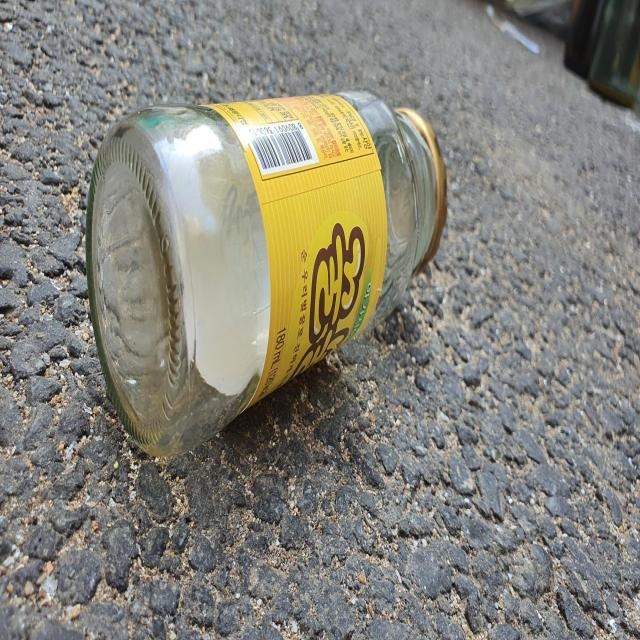glass: (85, 89, 447, 456)
